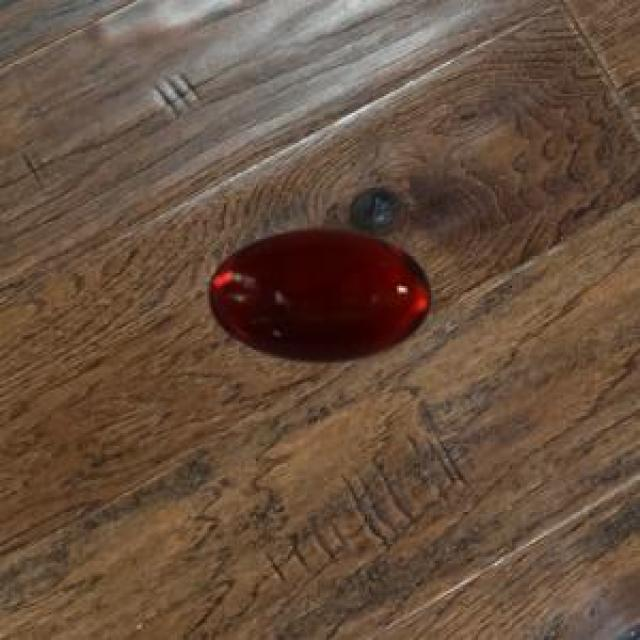Medicol: (197, 220, 442, 381)
